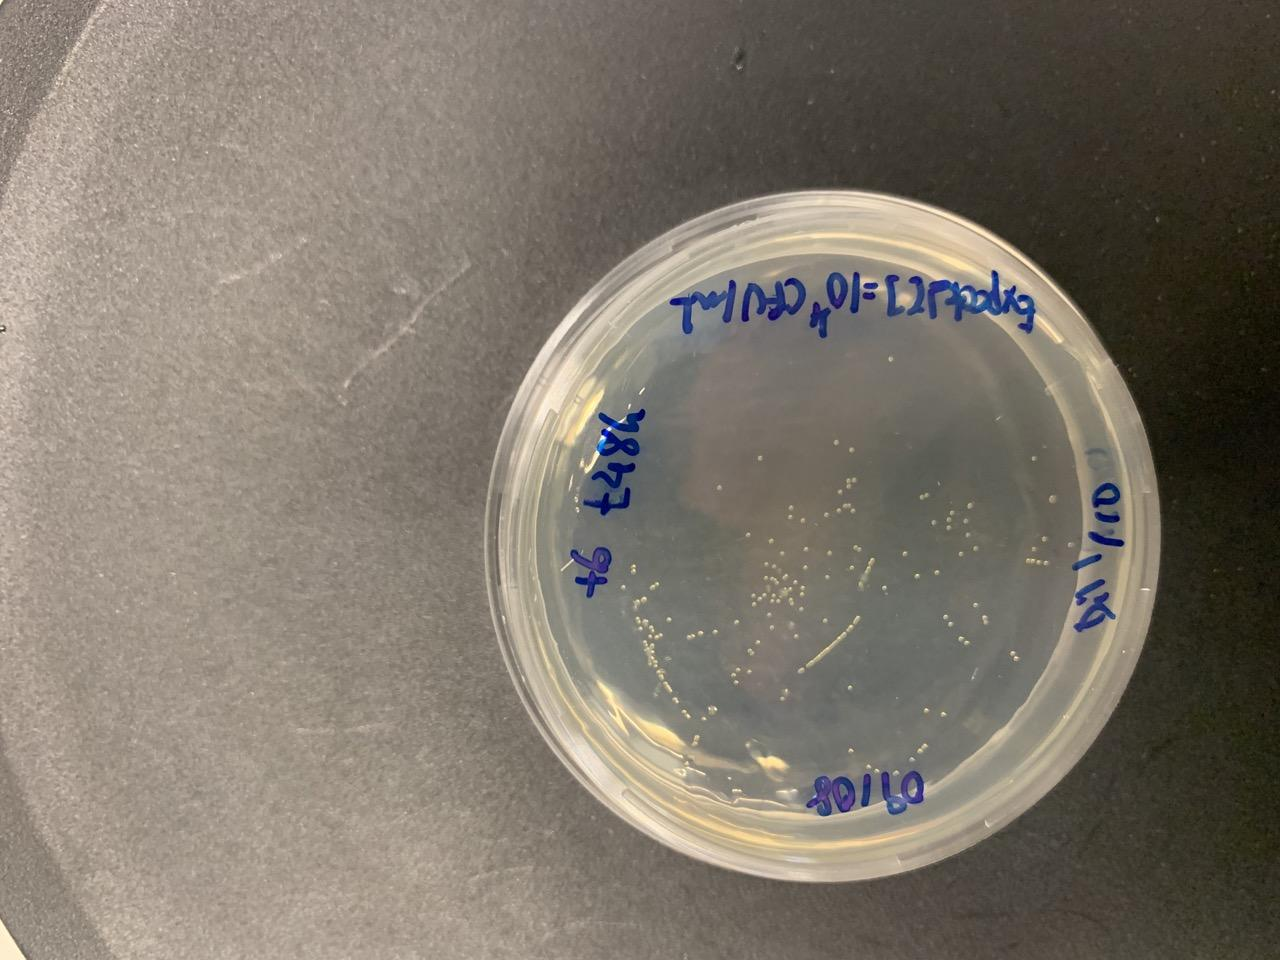colony: (1047, 493, 1058, 505), (1040, 534, 1049, 544), (1066, 541, 1075, 550), (944, 523, 953, 532), (966, 501, 975, 509), (933, 569, 941, 577), (1013, 655, 1021, 664), (965, 530, 973, 538), (963, 517, 971, 525), (733, 679, 741, 687), (729, 672, 737, 680), (712, 628, 720, 636), (733, 618, 741, 626), (801, 564, 809, 572), (825, 550, 834, 558), (802, 546, 810, 554), (786, 513, 794, 521), (822, 510, 830, 518), (824, 573, 831, 582), (972, 545, 980, 552), (947, 620, 954, 628), (1009, 648, 1016, 656), (1031, 545, 1038, 553), (755, 638, 762, 646), (769, 624, 777, 631), (793, 632, 800, 640), (849, 564, 856, 572), (745, 530, 752, 538), (787, 504, 795, 511), (799, 516, 806, 524), (881, 584, 888, 591), (914, 573, 921, 580), (972, 601, 979, 608), (981, 613, 988, 620), (1043, 560, 1050, 567), (930, 519, 937, 526), (949, 509, 956, 516), (924, 491, 931, 498), (735, 667, 742, 674), (746, 669, 753, 676), (766, 611, 773, 618), (751, 601, 758, 608), (822, 617, 829, 624), (942, 613, 948, 621), (957, 634, 964, 642), (964, 639, 970, 647), (945, 516, 953, 522), (902, 551, 908, 558), (983, 620, 990, 626), (1025, 558, 1031, 565), (1036, 560, 1042, 567), (750, 592, 757, 598), (800, 584, 806, 591), (1031, 558, 1036, 566), (798, 606, 804, 612), (958, 551, 964, 558), (920, 494, 925, 501)
